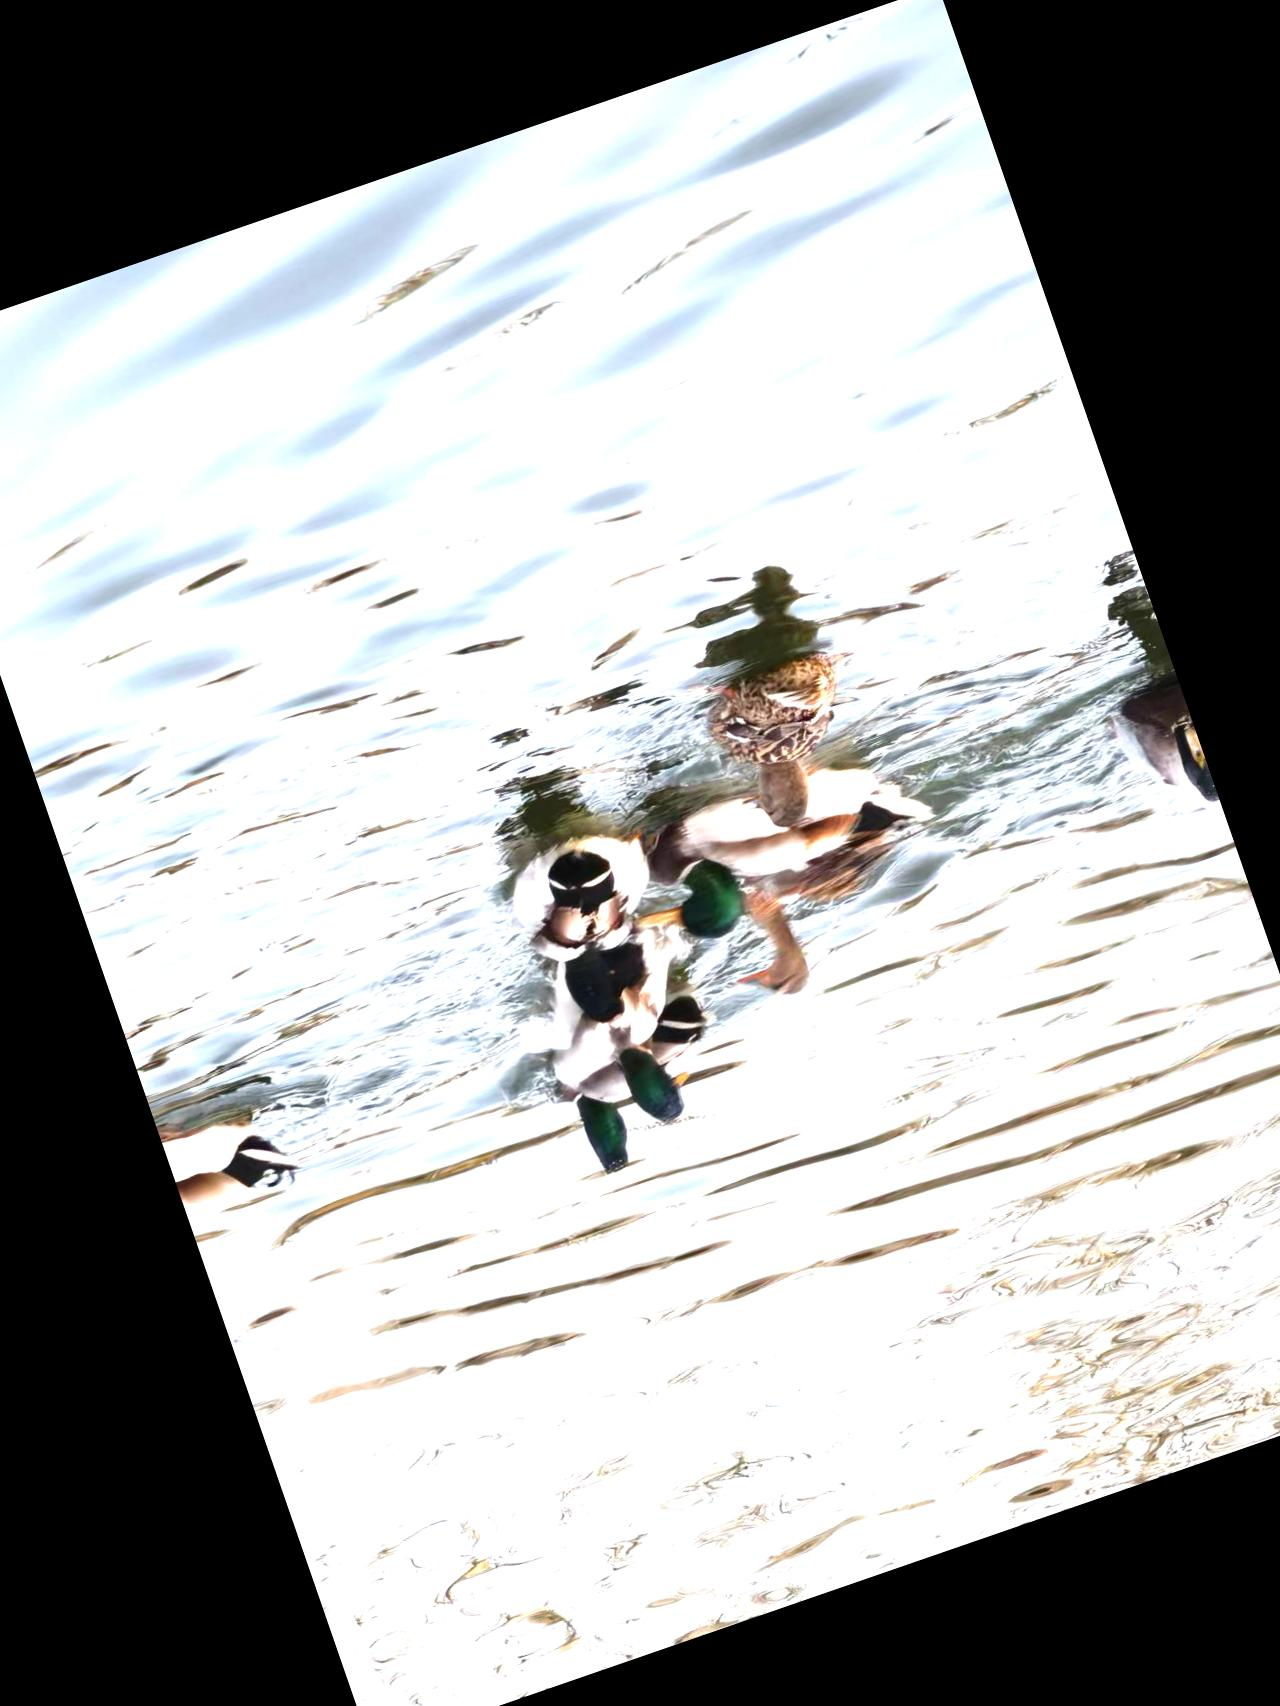duck: (597, 711, 943, 961), (667, 622, 908, 855), (475, 807, 698, 1046), (694, 803, 933, 1018), (516, 993, 731, 1192), (566, 925, 734, 1141), (1081, 688, 1226, 858), (155, 1084, 312, 1240)
